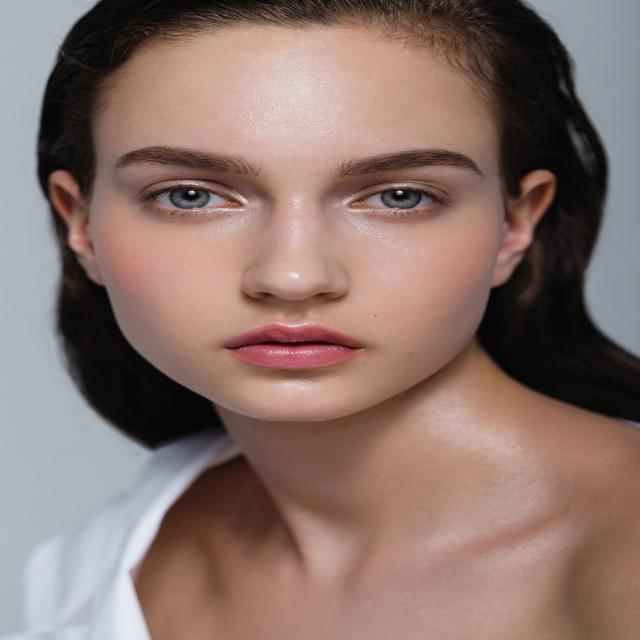earlobe: (489, 170, 557, 287)
